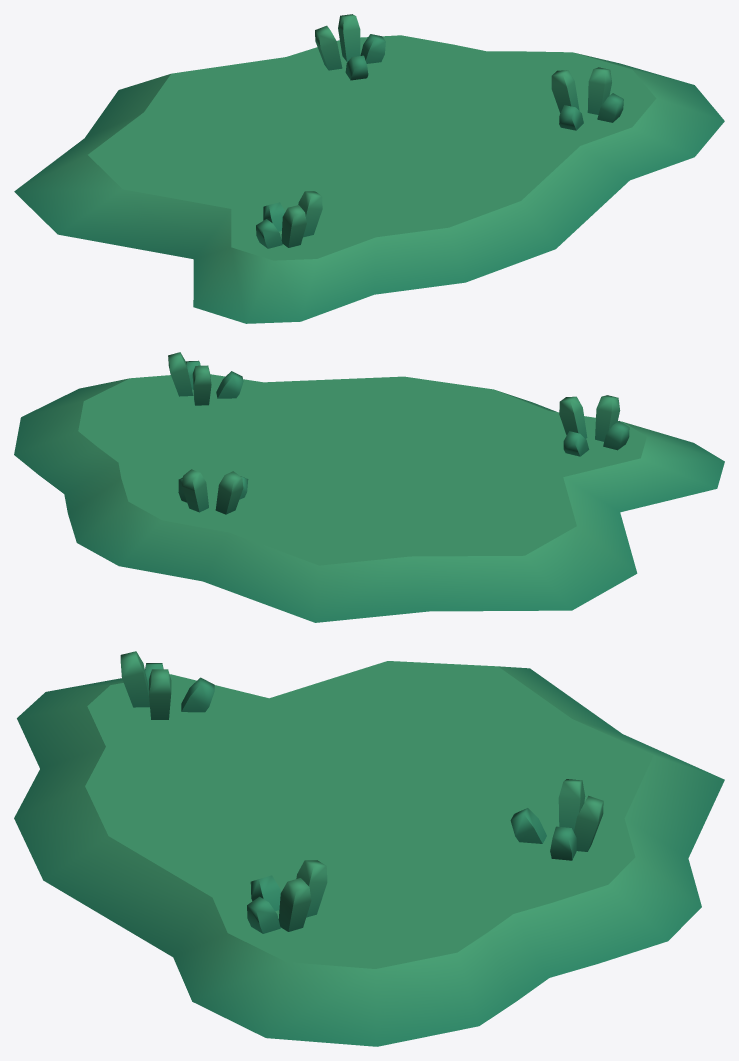
File: patch-grass-foliage.glb
3 renders of one model, top to bottom at view 1: azimuth 30°, elevation 25°; view 2: azimuth 150°, elevation 25°; view 3: azimuth 270°, elevation 25°, orthographic. The views are drawn at different scales.
Visible parts, largest first — view 1: patch-grass-foliage; view 2: patch-grass-foliage; view 3: patch-grass-foliage.
Part boxes in pixels (bbox=[...]): patch-grass-foliage: bbox=[14, 14, 724, 323]; patch-grass-foliage: bbox=[14, 352, 724, 622]; patch-grass-foliage: bbox=[14, 651, 724, 1046].
Size of the model in its own units: 5.27 by 0.5639 by 4.11.
